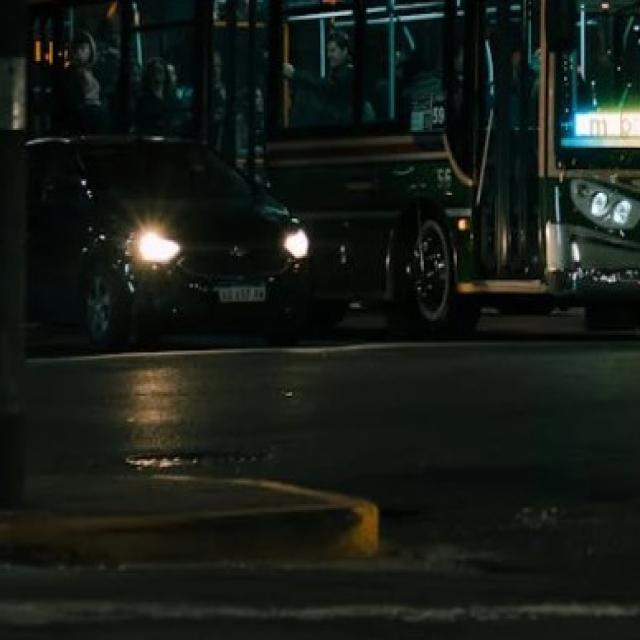bus: (31, 0, 640, 333)
car: (2, 130, 316, 347)
